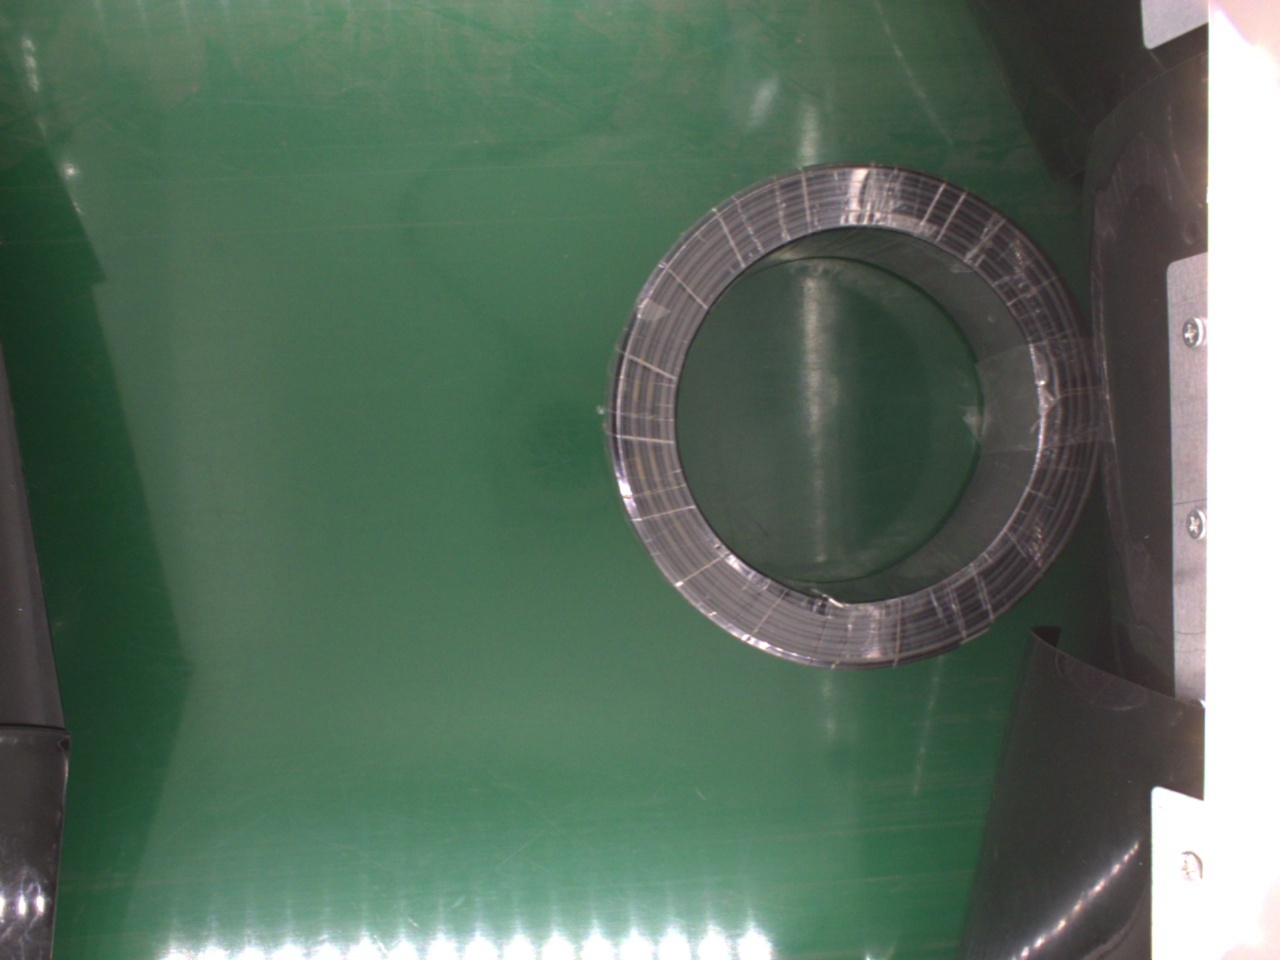black: (600, 156, 1100, 669)
